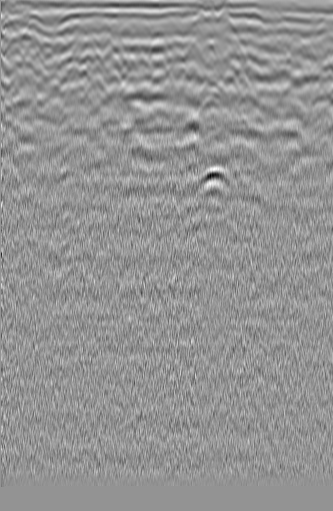가스: (194, 163, 232, 197)
상수: (283, 37, 319, 72)
오수: (4, 33, 31, 60)
우수: (142, 26, 173, 64)
